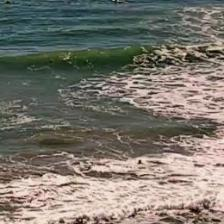surfer: (112, 0, 124, 4), (4, 0, 13, 5)
